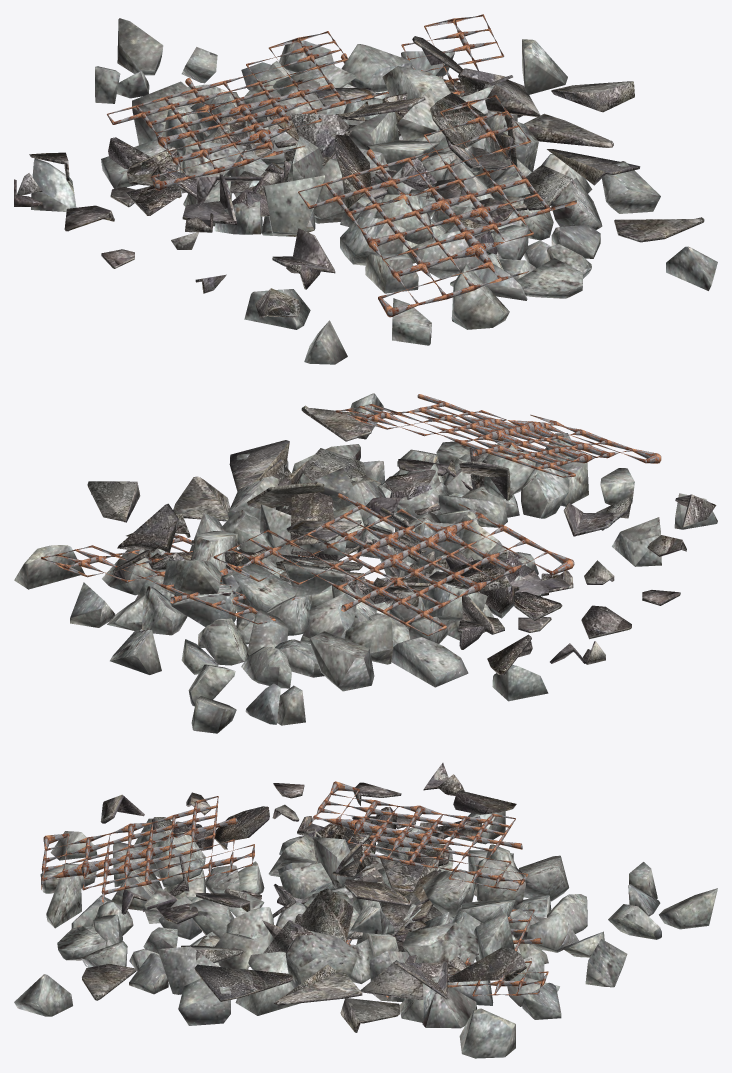
Rendered from escombros1.fbx.
The picture shows the model from 3 angles, top to bottom: view 1: azimuth 30°, elevation 25°; view 2: azimuth 150°, elevation 25°; view 3: azimuth 270°, elevation 25°; orthographic projection. The views are drawn at different scales.
Visible parts, largest first — view 1: escombros1.2, escombors1.1, escombors1; view 2: escombros1.2, escombors1.1, escombors1; view 3: escombros1.2, escombors1.1, escombors1.
Boxes of the visible parts, x1,y1,x2,y2 form: escombros1.2: (31, 18, 717, 364); escombors1.1: (14, 36, 704, 317); escombors1: (107, 14, 576, 317); escombros1.2: (14, 393, 717, 733); escombors1.1: (87, 405, 716, 674); escombors1: (41, 394, 661, 635); escombros1.2: (14, 799, 717, 1058); escombors1.1: (82, 763, 526, 1032); escombors1: (41, 781, 548, 999).
Size of the model in its own units: 3380 by 678 by 3966.
